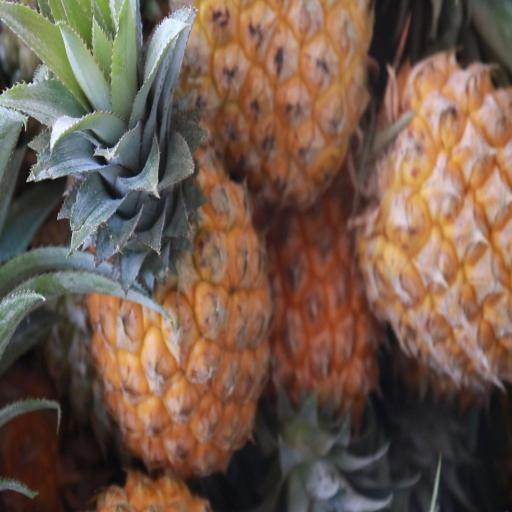Pineapple - v8 v1: (86, 112, 273, 472), (366, 47, 512, 380), (192, 0, 374, 199), (270, 156, 399, 412)
